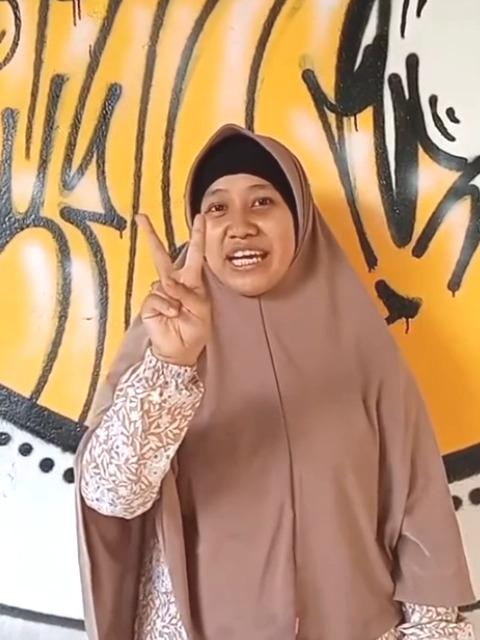V: (125, 204, 221, 368)
